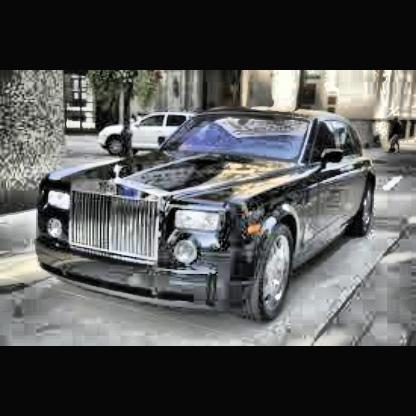Rolls-Royce Phantom Sedan 2012: (35, 102, 382, 333)
